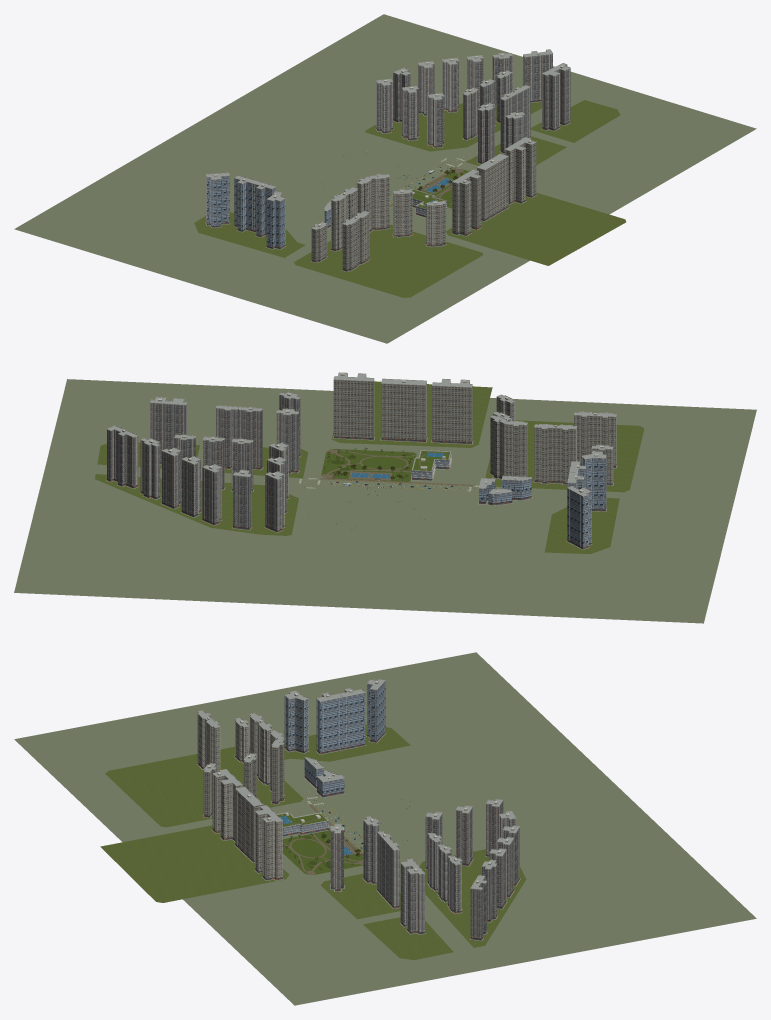
File: surroundings.glb
The picture shows the model from 3 angles, top to bottom: view 1: azimuth 30°, elevation 25°; view 2: azimuth 150°, elevation 25°; view 3: azimuth 270°, elevation 25°; orthographic projection. The views are drawn at different scales.
Visible parts, largest first — view 1: surroundings; view 2: surroundings; view 3: surroundings.
Part boxes in pixels (x1,y1,x2,y2): surroundings: (14, 14, 756, 343); surroundings: (14, 372, 756, 623); surroundings: (14, 652, 756, 1005).
Bounding box in the file's own units: 1272 × 103 × 1130.
86 materials, 21 textured.
